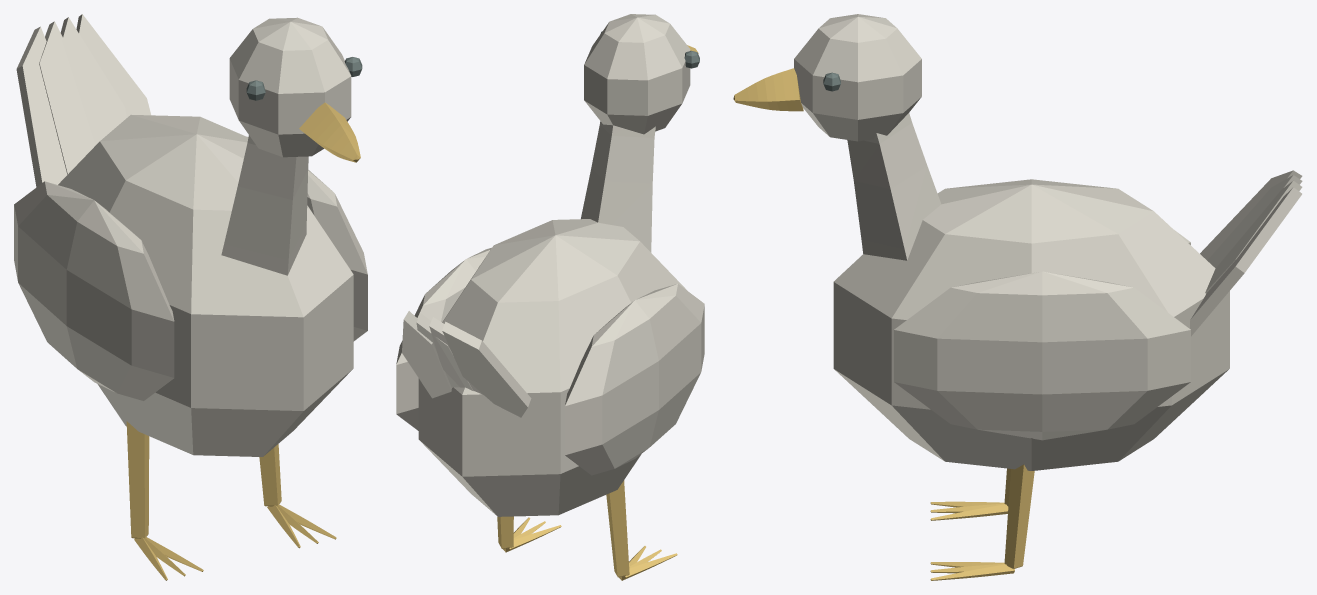
File: goose.glb
3 renders of one model, left to right at view 1: azimuth 30°, elevation 25°; view 2: azimuth 150°, elevation 25°; view 3: azimuth 270°, elevation 25°, orthographic. The views are drawn at different scales.
Visible parts, largest first — view 1: goose; view 2: goose; view 3: goose.
Part boxes in pixels (x1=…): goose: x1=14, y1=14, x2=367, y2=580; goose: x1=396, y1=14, x2=704, y2=580; goose: x1=733, y1=14, x2=1302, y2=580.
Size of the model in its own units: 0.3702 by 0.8089 by 0.7921.
